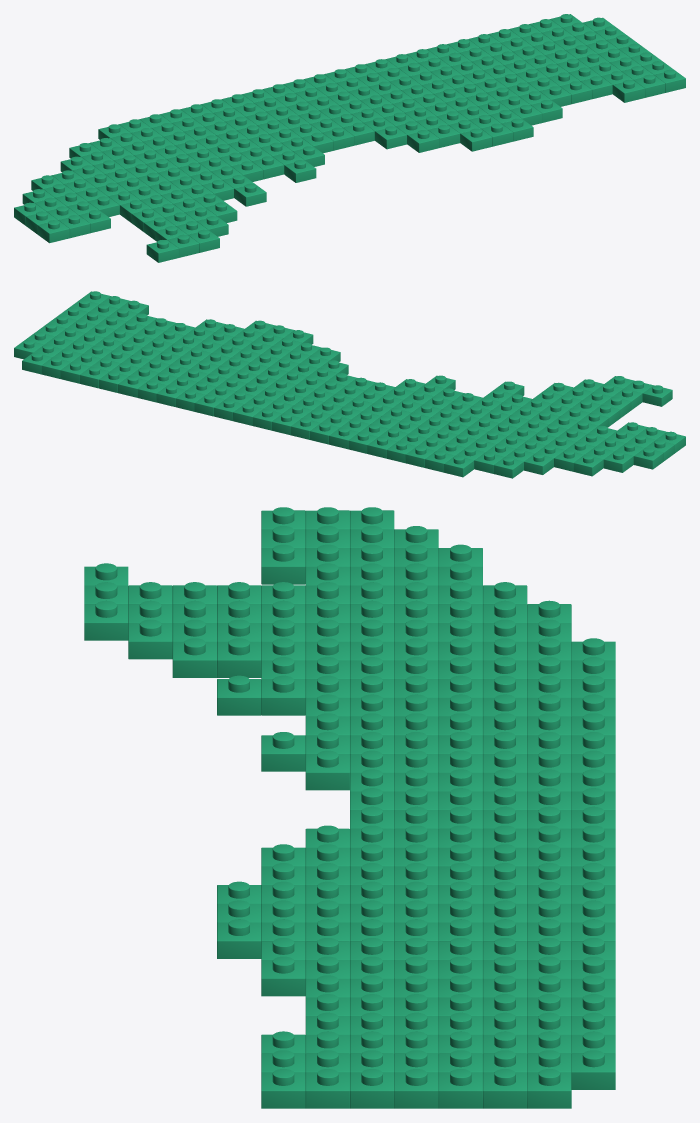
The model's file is NorthWestTerritory.fbx.
3 renders of one model, top to bottom at view 1: azimuth 30°, elevation 25°; view 2: azimuth 150°, elevation 25°; view 3: azimuth 270°, elevation 25°, orthographic. The views are drawn at different scales.
Parts seen in each view (by area): view 1: Cylinder_78; view 2: Cylinder_78; view 3: Cylinder_78.
Part boxes in pixels (x1=…): Cylinder_78: x1=14, y1=14, x2=685, y2=262; Cylinder_78: x1=14, y1=291, x2=685, y2=478; Cylinder_78: x1=84, y1=507, x2=615, y2=1108.
Size of the model in its own units: 3100 by 65.03 by 1200.
